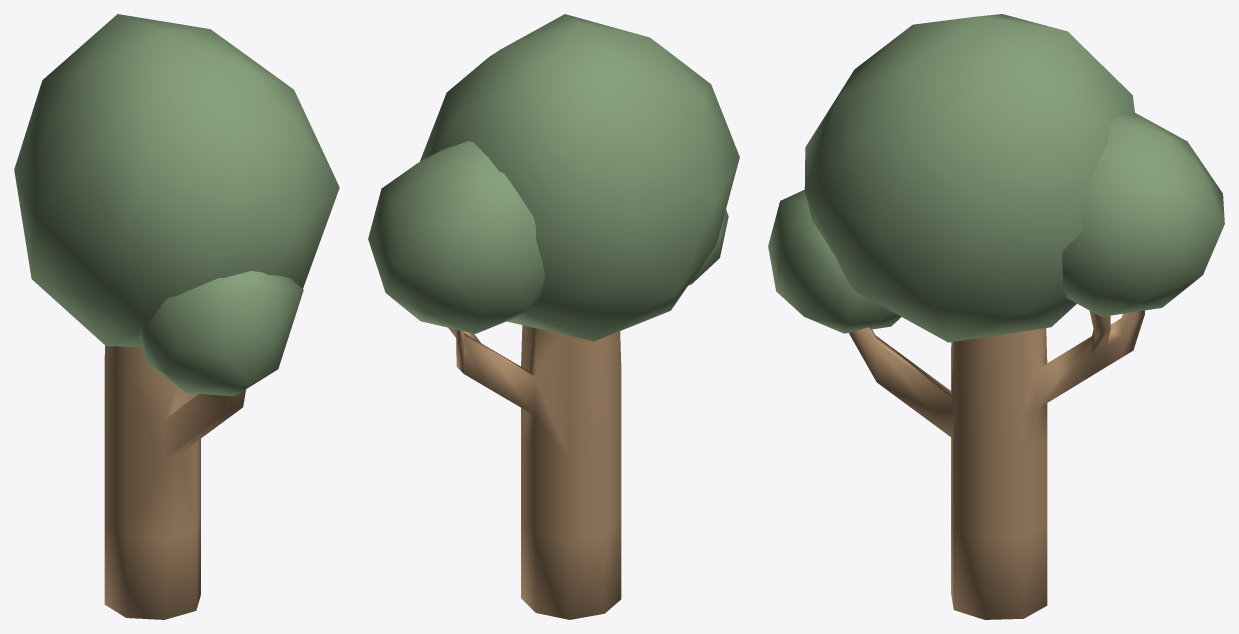
The model's file is tree.gltf.
The picture shows the model from 3 angles, left to right: view 1: azimuth 30°, elevation 25°; view 2: azimuth 150°, elevation 25°; view 3: azimuth 270°, elevation 25°; orthographic projection. The views are drawn at different scales.
Parts seen in each view (by area): view 1: tree; view 2: tree; view 3: tree.
Part boxes in pixels (x1=…): tree: x1=14, y1=14, x2=339, y2=619; tree: x1=368, y1=14, x2=739, y2=619; tree: x1=768, y1=14, x2=1224, y2=619.
Size of the model in its own units: 1.87 by 3.71 by 2.63.
